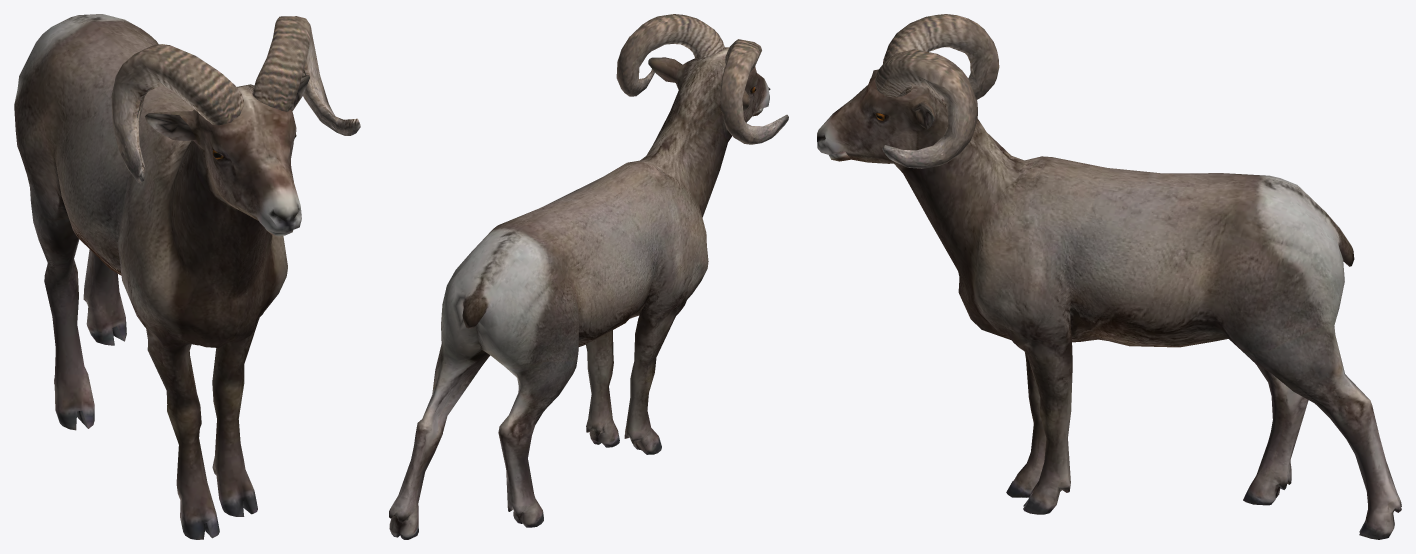
The model's file is bighorn.glb.
3 renders of one model, left to right at view 1: azimuth 30°, elevation 25°; view 2: azimuth 150°, elevation 25°; view 3: azimuth 270°, elevation 25°, orthographic. The views are drawn at different scales.
Parts seen in each view (by area): view 1: Bighorn_clean_M_BighornSheep_0_M_BighornSheep_0, Bighorn_clean_M_BighornSheep_Antler_0_M_BighornSheep_Antler_; view 2: Bighorn_clean_M_BighornSheep_0_M_BighornSheep_0, Bighorn_clean_M_BighornSheep_Antler_0_M_BighornSheep_Antler_; view 3: Bighorn_clean_M_BighornSheep_0_M_BighornSheep_0, Bighorn_clean_M_BighornSheep_Antler_0_M_BighornSheep_Antler_.
Boxes of the visible parts, <box> form: Bighorn_clean_M_BighornSheep_0_M_BighornSheep_0: <box>14,14,309,539</box>; Bighorn_clean_M_BighornSheep_Antler_0_M_BighornSheep_Antler_: <box>111,16,360,183</box>; Bighorn_clean_M_BighornSheep_0_M_BighornSheep_0: <box>389,47,770,539</box>; Bighorn_clean_M_BighornSheep_Antler_0_M_BighornSheep_Antler_: <box>616,14,788,144</box>; Bighorn_clean_M_BighornSheep_0_M_BighornSheep_0: <box>817,69,1401,539</box>; Bighorn_clean_M_BighornSheep_Antler_0_M_BighornSheep_Antler_: <box>875,14,999,168</box>.
Bounding box in the file's own units: 0.7046 × 1.39 × 1.63.
Materials: 2 (2 with a texture image).
